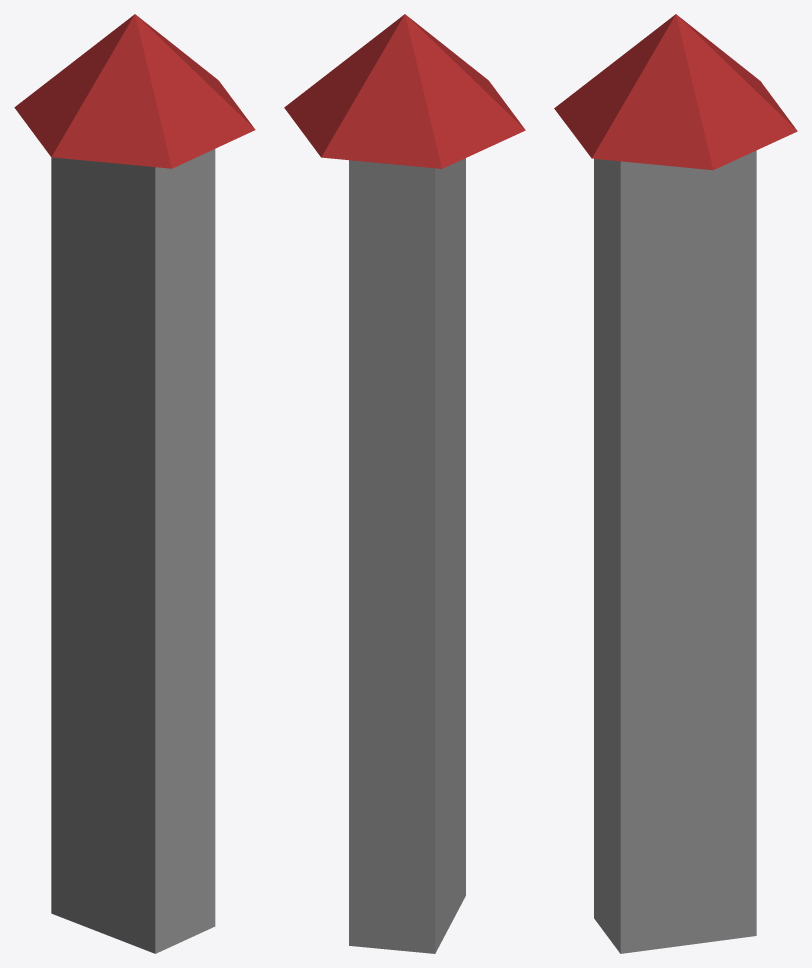
Rendered from CHINMEY.fbx.
3 renders of one model, left to right at view 1: azimuth 30°, elevation 25°; view 2: azimuth 150°, elevation 25°; view 3: azimuth 270°, elevation 25°, orthographic.
Parts seen in each view (by area): view 1: CHIMNEY; view 2: CHIMNEY; view 3: CHIMNEY.
Part boxes in pixels (x1=…): CHIMNEY: x1=14, y1=14, x2=255, y2=953; CHIMNEY: x1=284, y1=14, x2=525, y2=953; CHIMNEY: x1=554, y1=14, x2=797, y2=953.
Bounding box in the file's own units: 70.08 × 297 × 71.68.
Materials: 1 (1 with a texture image).
